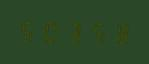eight: (106, 20, 127, 44)
five: (18, 19, 39, 43), (84, 20, 105, 44)
three: (62, 19, 83, 44)
zero: (40, 19, 61, 43)
